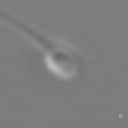normal: (1, 10, 54, 50)
